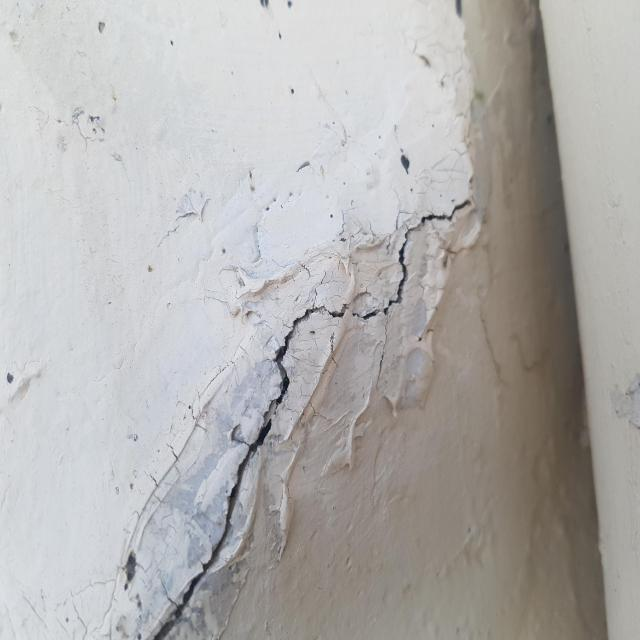SurfaceCrack: (94, 173, 489, 638)
